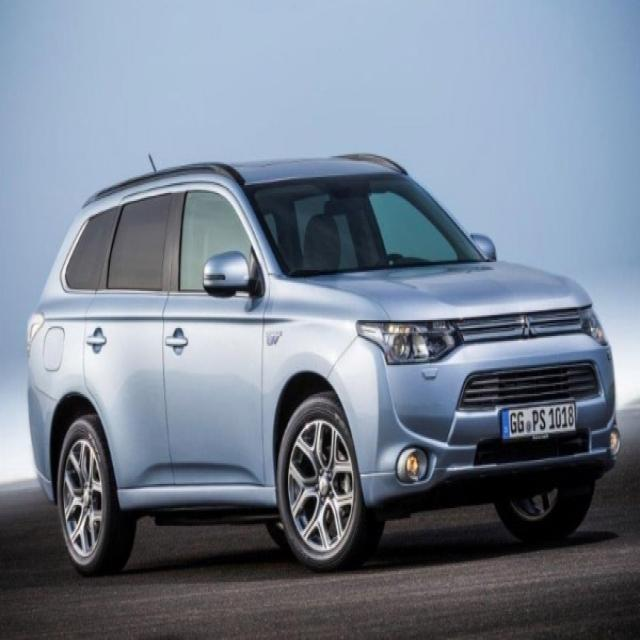light_vehicle: (24, 152, 620, 576)
